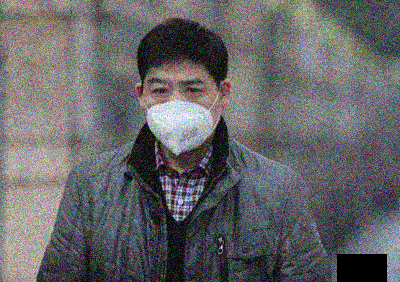with_mask: (143, 75, 222, 155)
